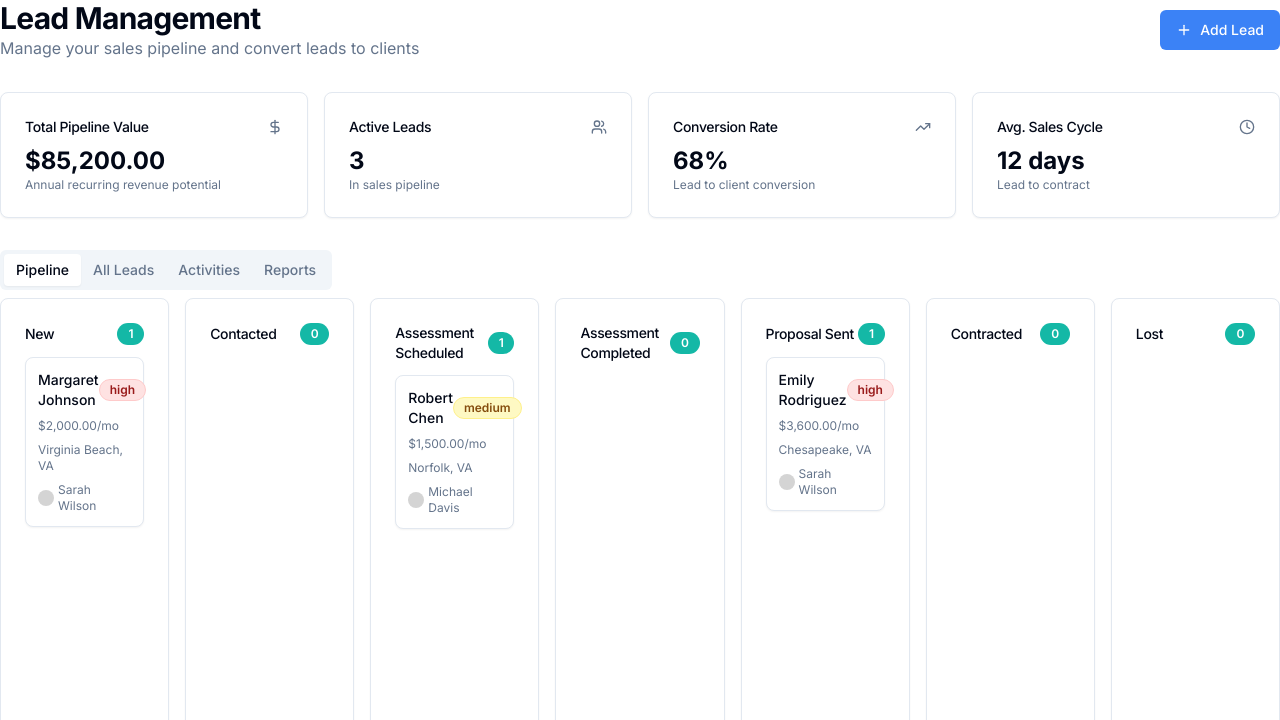
Test: LeadManagement › opens add lead dialog when button is clicked
Click the button "Add Lead". click: click(1220, 30)
box: 1160,10 -> 1279,50
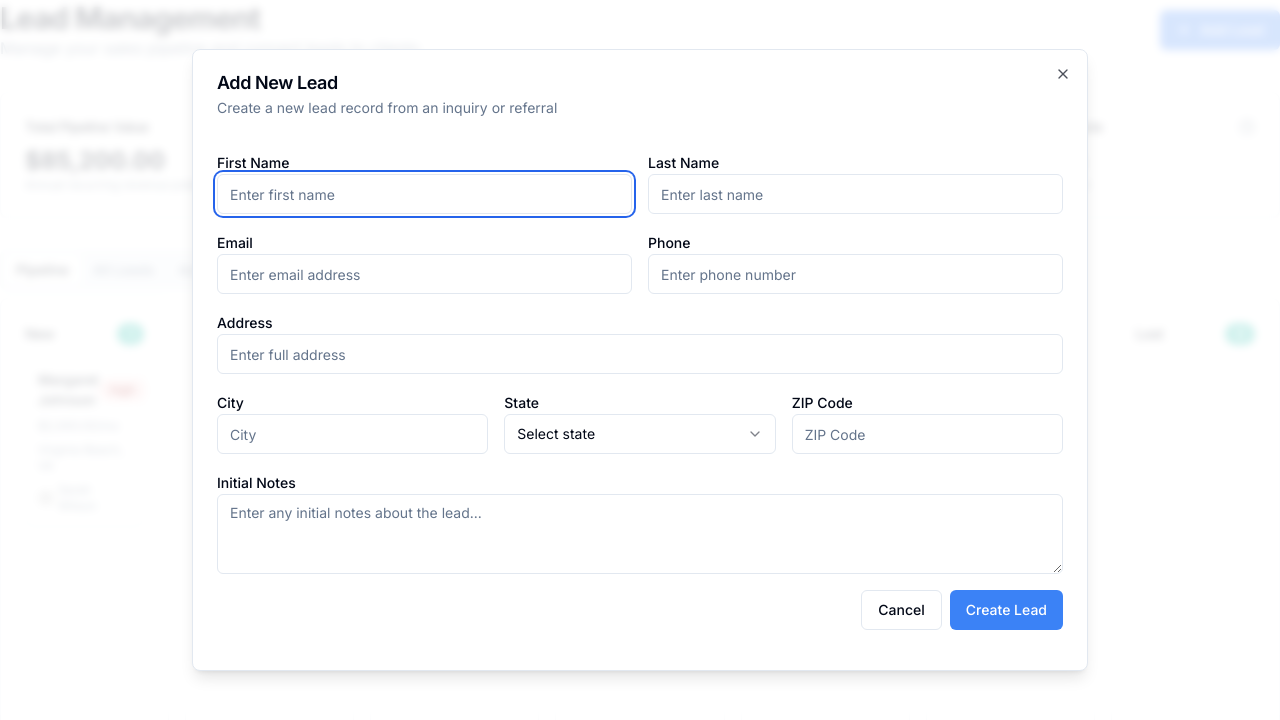
Result: the heading "Add New Lead" is shown at 217,72 -> 338,93
